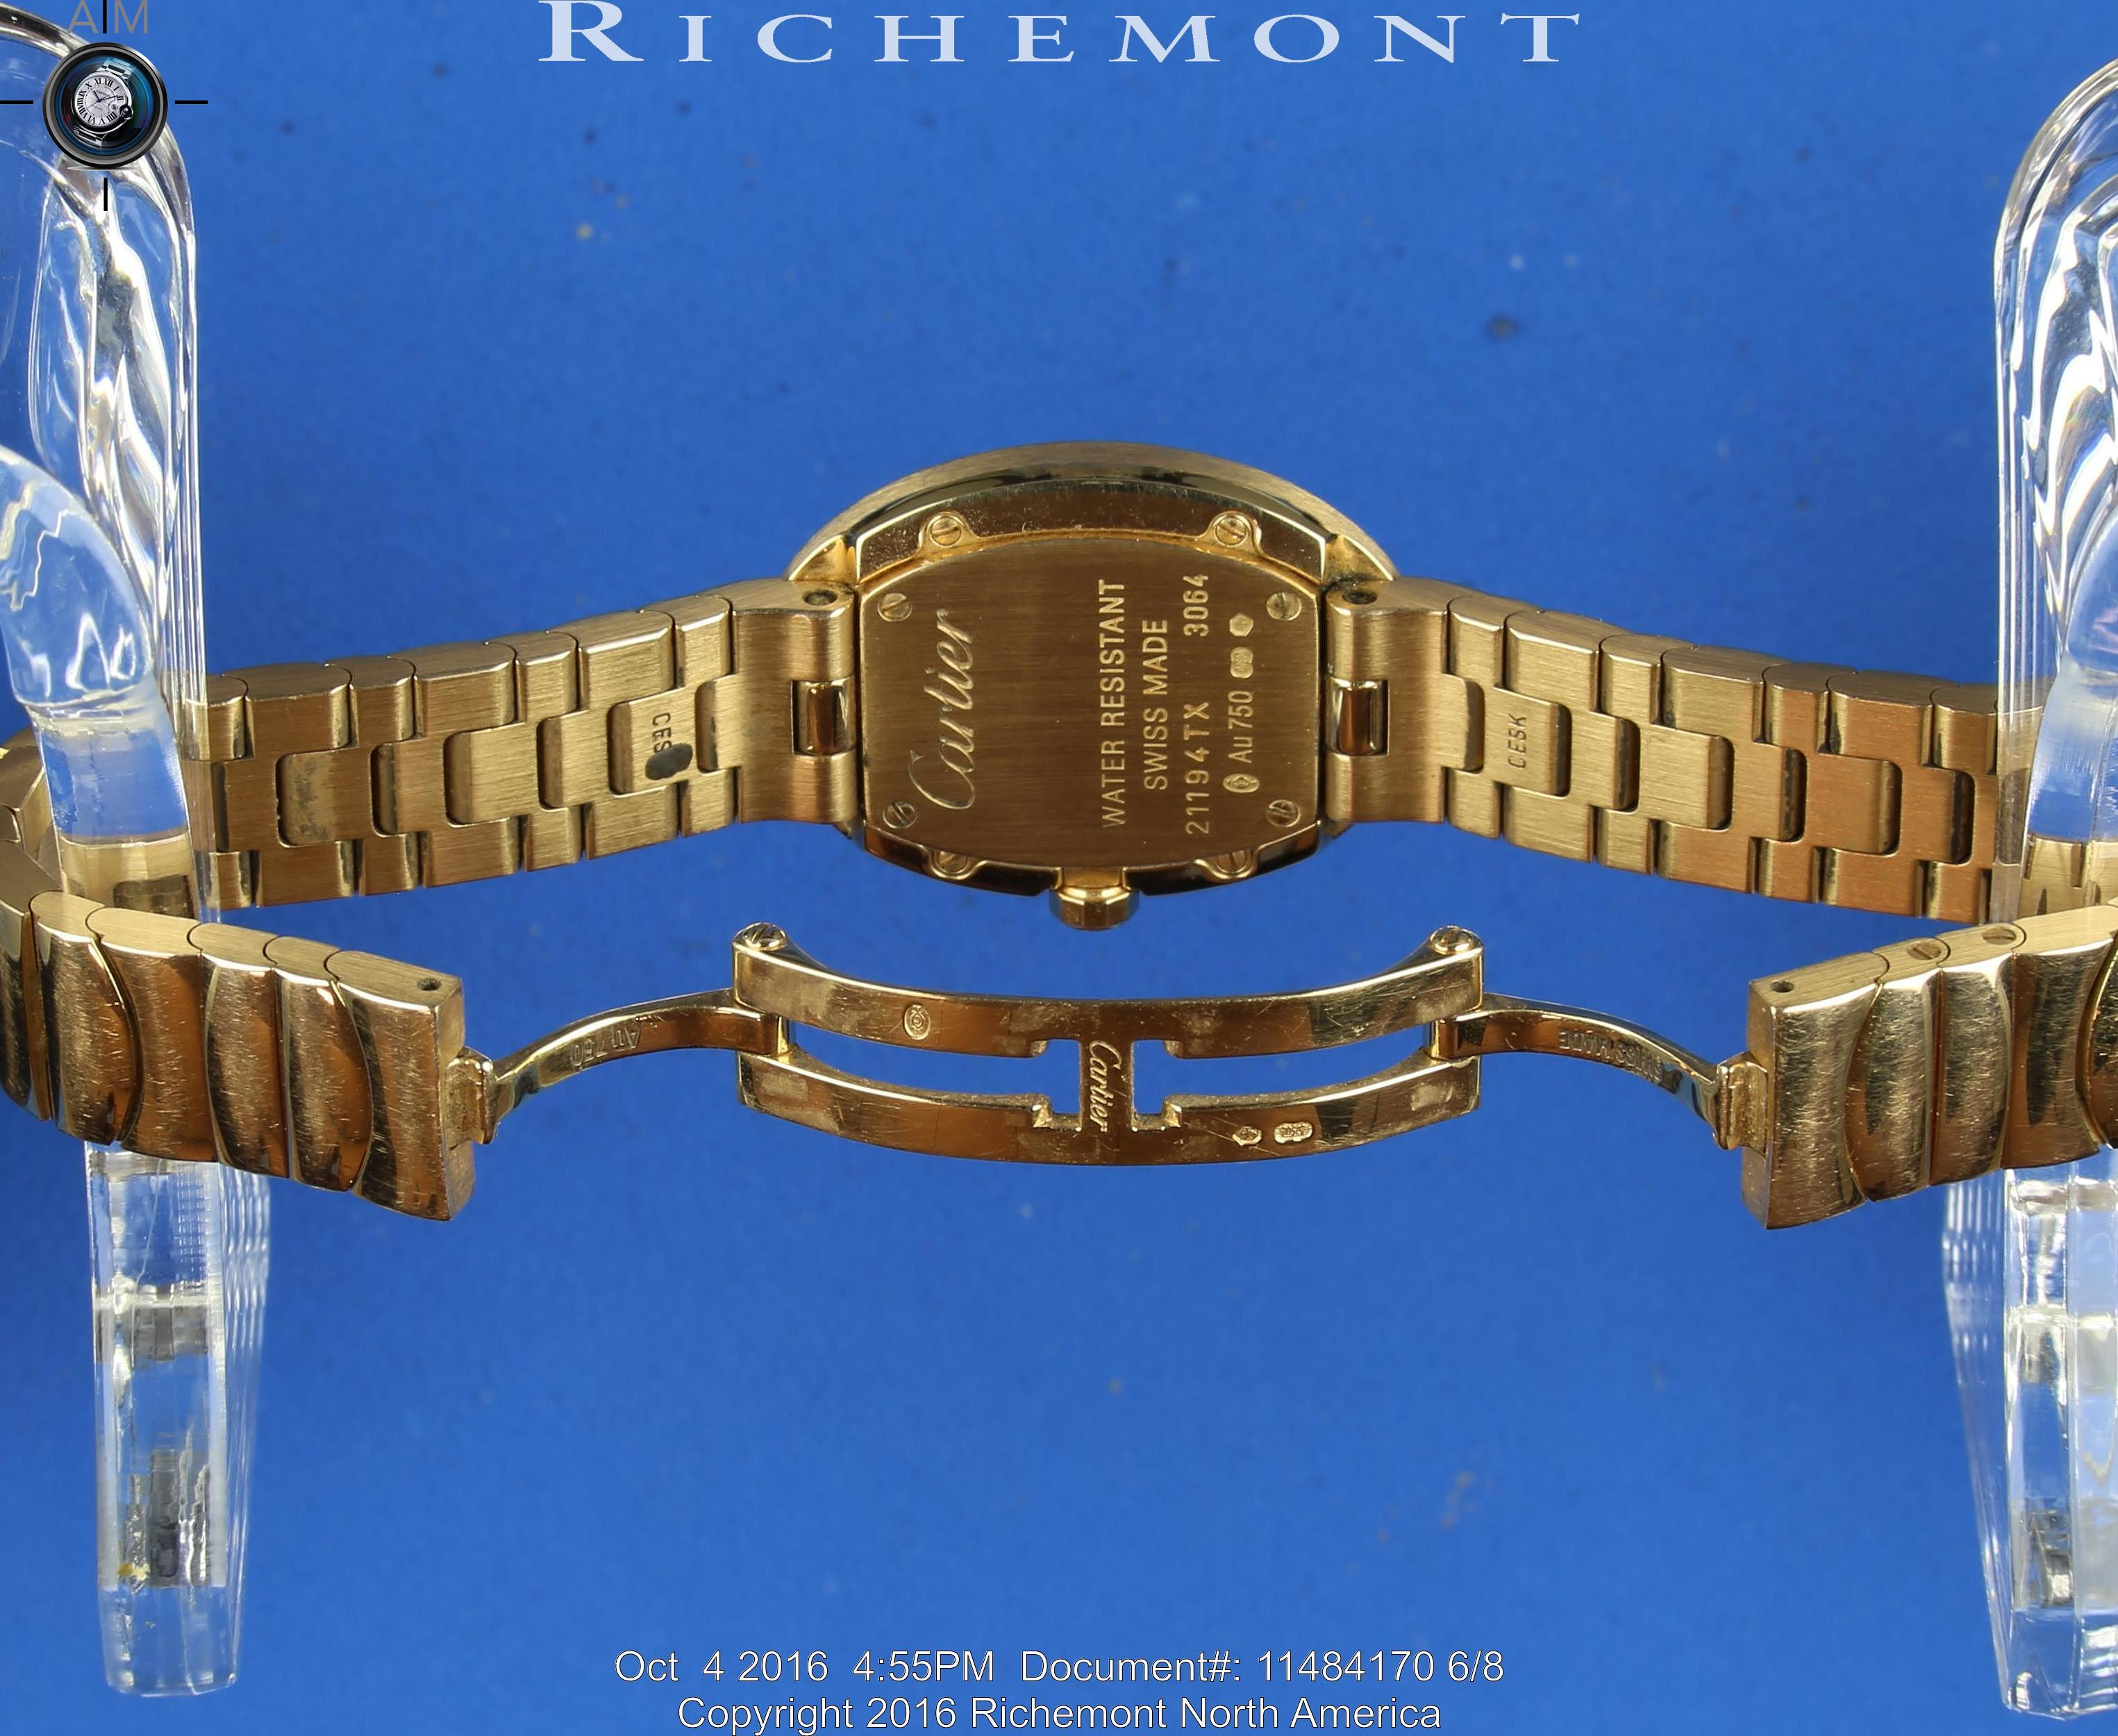Watch Back Case: (748, 431, 1425, 932)
